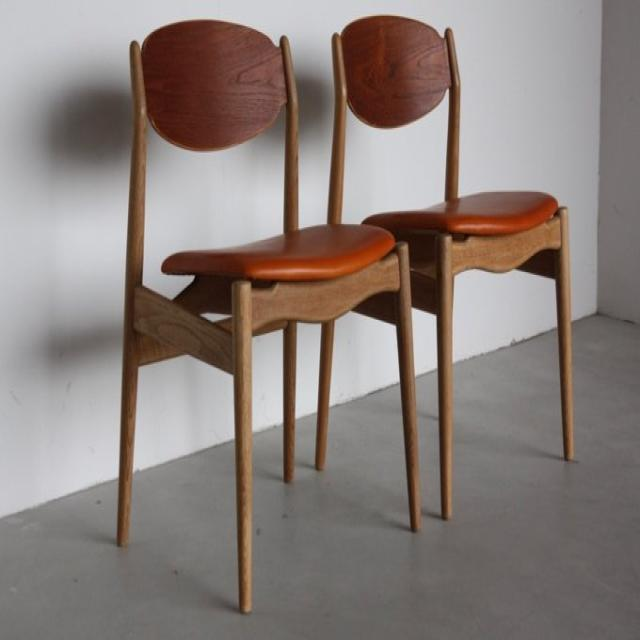chair vintage: (111, 17, 426, 616)
